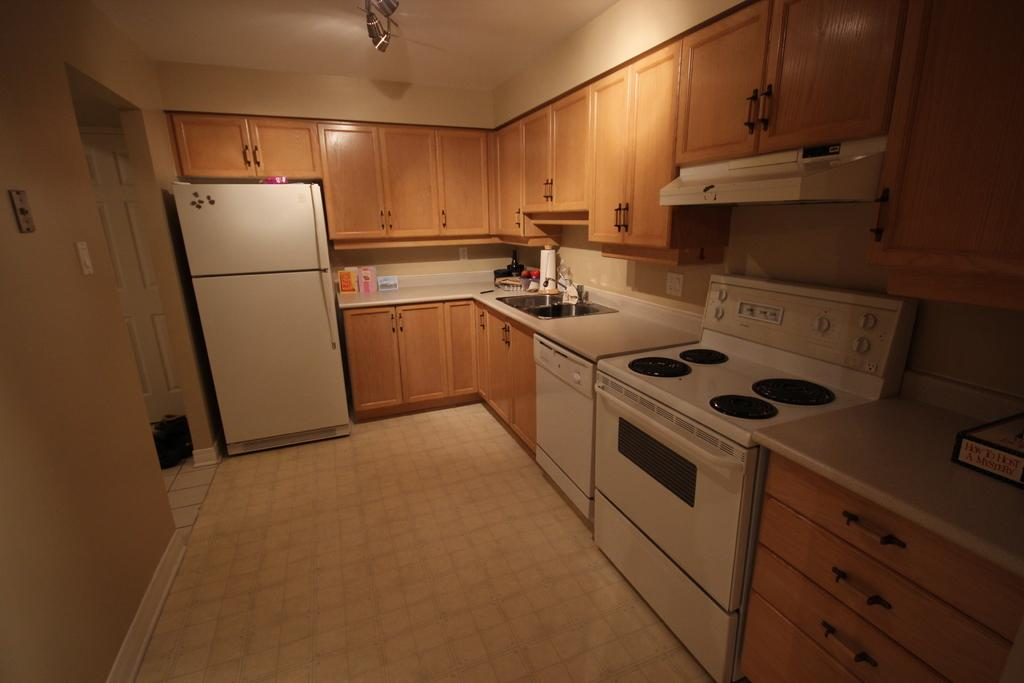cabinet_door: (908, 18, 1024, 264), (776, 17, 879, 136), (316, 124, 383, 236), (688, 39, 752, 151), (628, 76, 666, 244), (376, 129, 437, 231), (590, 86, 628, 238), (435, 136, 489, 235), (394, 317, 448, 400), (253, 116, 323, 176), (348, 314, 398, 397), (179, 120, 247, 176), (552, 111, 588, 202), (518, 127, 554, 202), (468, 308, 492, 392), (490, 318, 510, 408)
handle: (822, 622, 880, 672), (832, 563, 891, 609), (842, 512, 908, 550), (304, 188, 331, 270), (316, 275, 342, 348), (738, 85, 756, 131), (754, 86, 772, 129), (872, 184, 886, 237), (620, 202, 631, 231), (238, 148, 252, 167), (614, 203, 622, 231), (253, 147, 261, 167)
